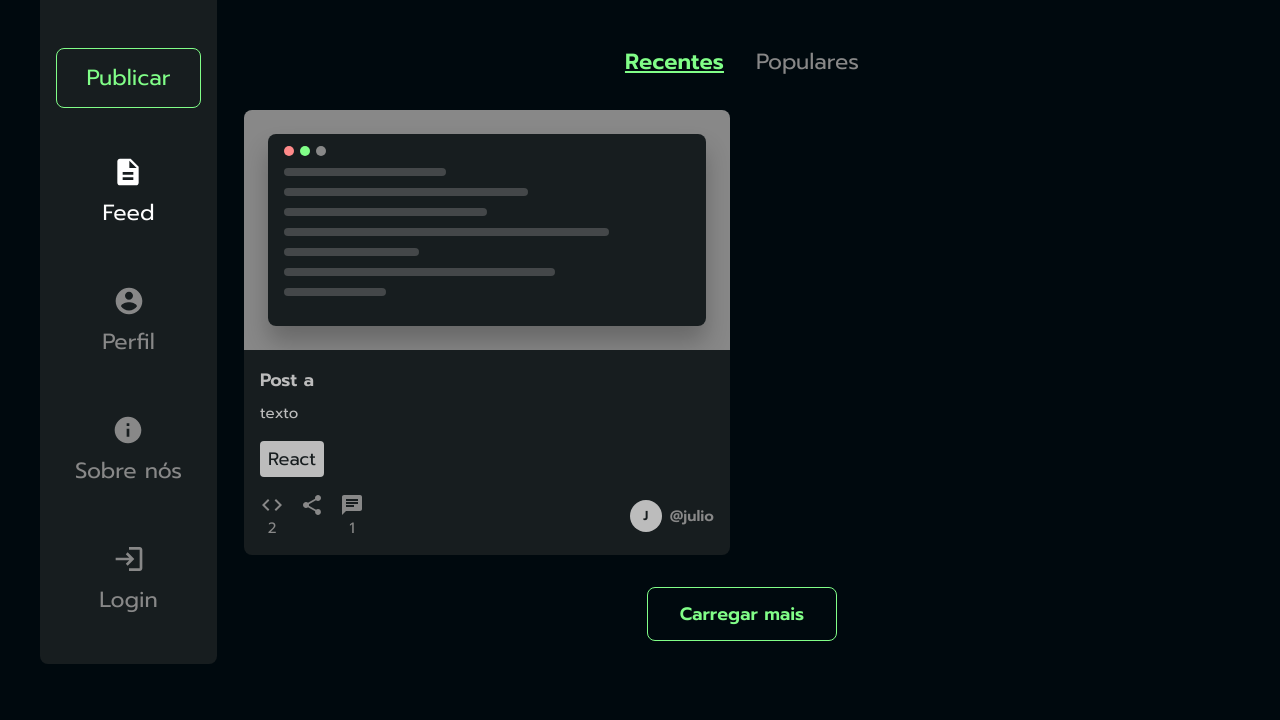
it: FeedPage › loads the next page and appends it
The width and height of the screenshot is (1280, 720).
(page scrolled)
Expected: the link "Post a" is shown, left=260, top=366, right=314, bottom=394
What coordinates should you click on to do the following:
click the button "Carregar mais"
I would click on:
 (742, 614)
Its box is left=647, top=587, right=837, bottom=641.
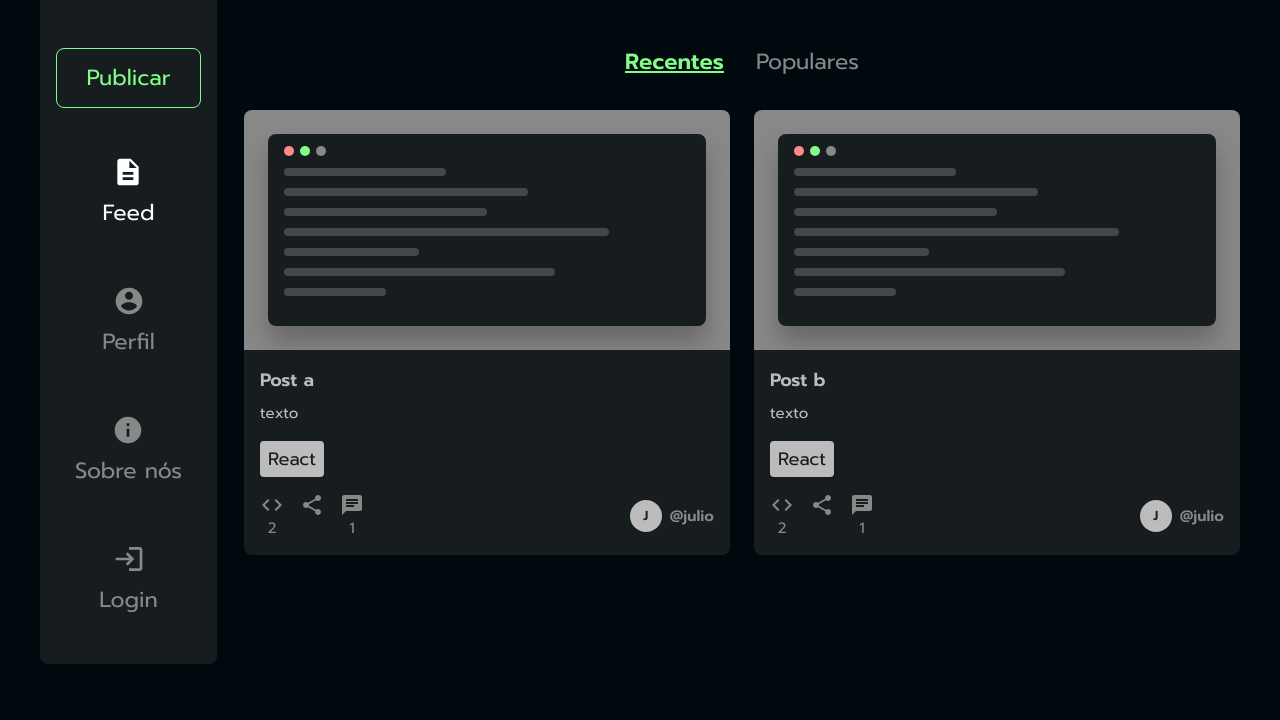
Expected: the link "Post a" is shown, left=260, top=366, right=314, bottom=394
Now the link "Post b" is shown, box left=770, top=366, right=825, bottom=394
Now the button "Carregar mais" is gone
